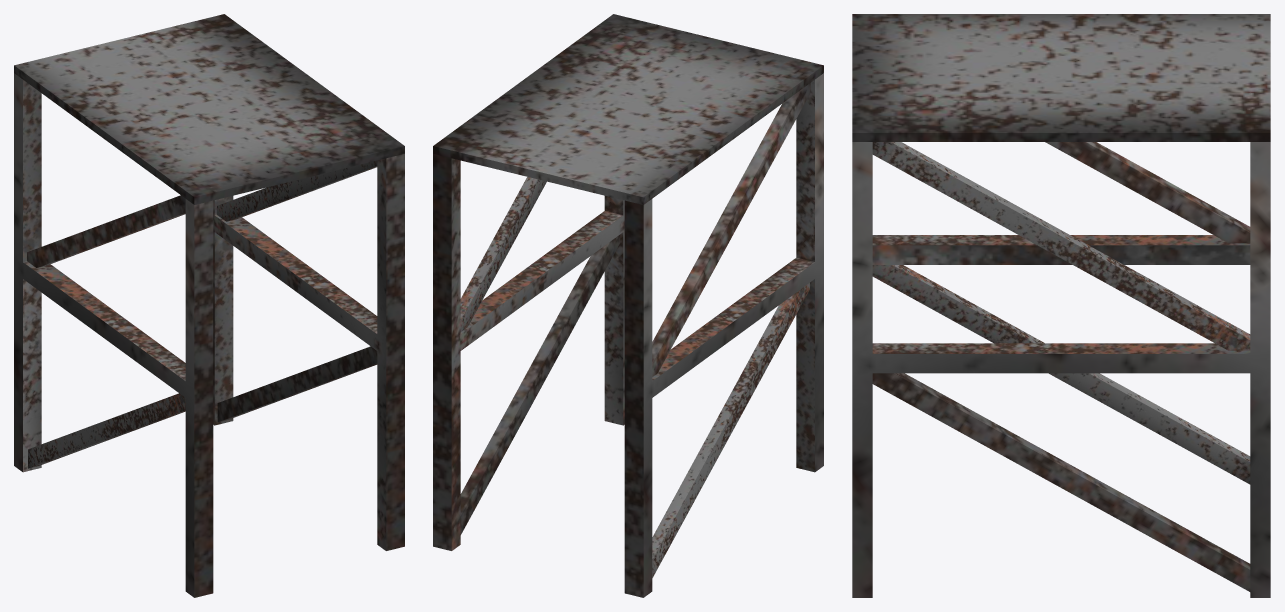
Rendered from PoanteFerroviaria.fbx.
The picture shows the model from 3 angles, left to right: view 1: azimuth 30°, elevation 25°; view 2: azimuth 150°, elevation 25°; view 3: azimuth 270°, elevation 25°; orthographic projection. The views are drawn at different scales.
Visible parts, largest first — view 1: PoanteFerroviaria; view 2: PoanteFerroviaria; view 3: PoanteFerroviaria.
Part boxes in pixels (x1,y1,x2,y2): PoanteFerroviaria: [14, 14, 404, 597]; PoanteFerroviaria: [433, 14, 823, 597]; PoanteFerroviaria: [852, 14, 1270, 597].
Size of the model in its own units: 200 by 364 by 297.
